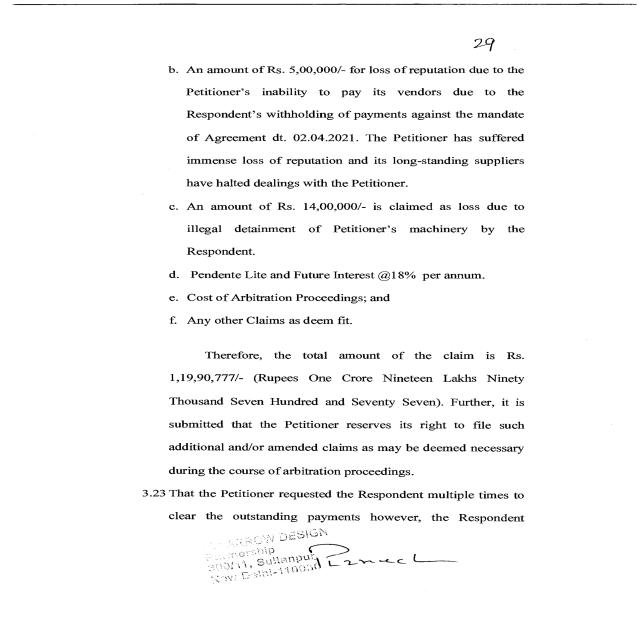page-number: (374, 6, 636, 64)
